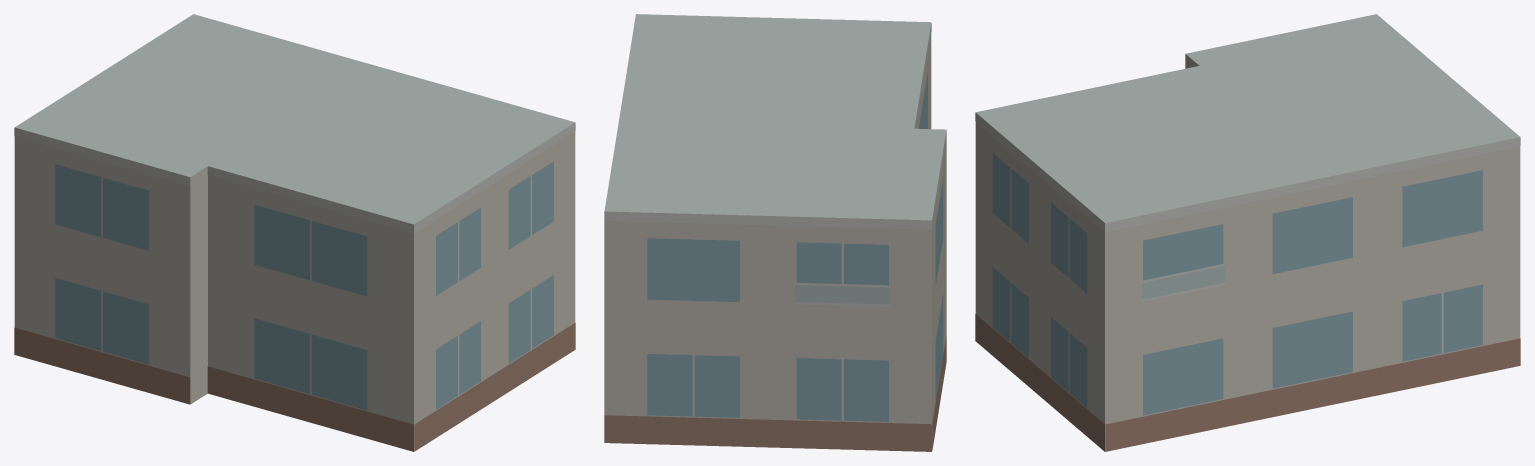
Rendered from survey-upis-32827778.glb.
The picture shows the model from 3 angles, left to right: view 1: azimuth 30°, elevation 25°; view 2: azimuth 150°, elevation 25°; view 3: azimuth 270°, elevation 25°; orthographic projection.
Parts seen in each view (by area): view 1: survey-upis-32827778.tmp; view 2: survey-upis-32827778.tmp; view 3: survey-upis-32827778.tmp.
Boxes of the visible parts, bbox=[...] form: survey-upis-32827778.tmp: bbox=[14, 14, 575, 451]; survey-upis-32827778.tmp: bbox=[604, 14, 946, 451]; survey-upis-32827778.tmp: bbox=[975, 14, 1520, 451].
Bounding box in the file's own units: 11.97 × 6.1 × 13.18.
